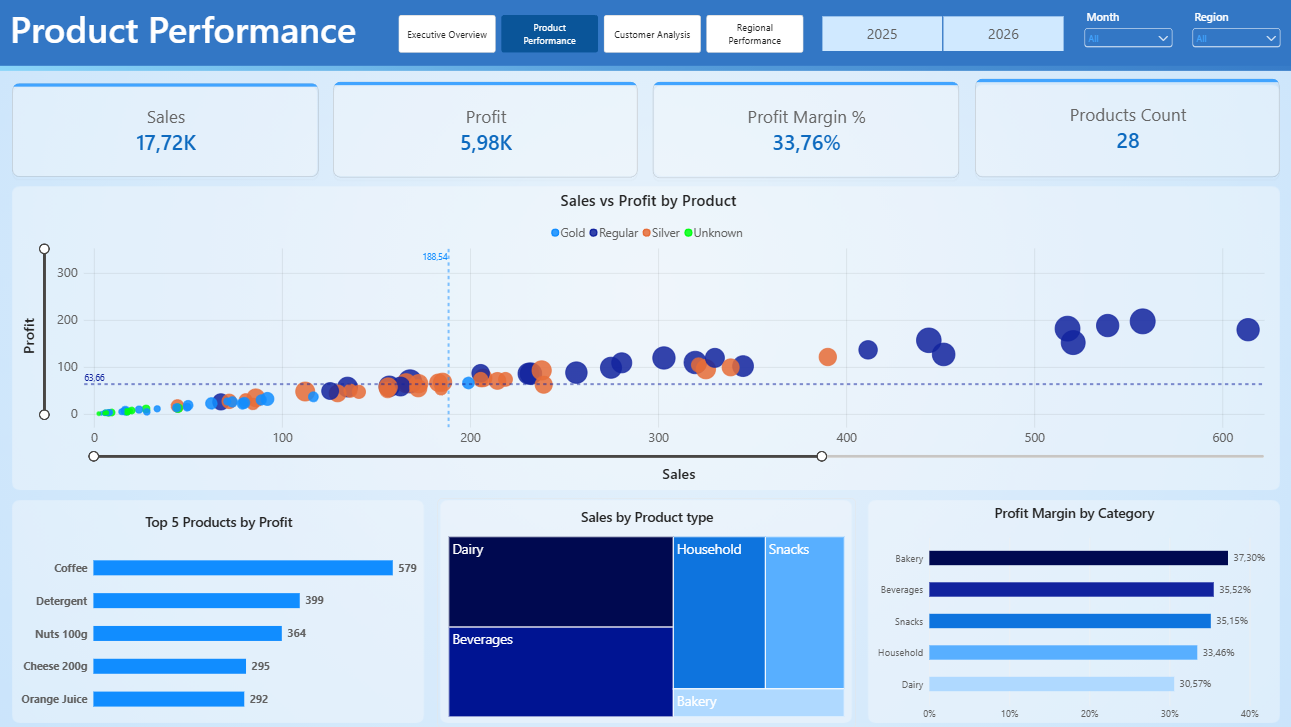

What the dashboard file says about the page in this screenshot:
{"tool":"powerbi","page":{"name":"Product Performance","canvas":[1920,1080],"ordinal":1},"visuals":[{"type":"cardVisual","fields":{"Data":["_Measures.Sales"]},"box":[15,117.5,465,150],"z":0},{"type":"cardVisual","fields":{"Data":["_Measures.Profit Margin %"]},"box":[965,115,465,154.2],"z":1000},{"type":"cardVisual","fields":{"Data":["_Measures.Profit"]},"box":[490,115,462.5,153.3],"z":2000},{"type":"cardVisual","fields":{"Data":["_Measures.Products Count"]},"box":[1442.5,110,462.5,157.5],"z":3000},{"type":"slicer","fields":{"Values":["DimDate.MonthName"]},"box":[1605,12.5,140,75],"z":4000},{"type":"slicer","fields":{"Values":["DimRegion.Region"]},"box":[1765,12.5,140,72.5],"z":5000},{"type":"slicer","fields":{"Values":["DimDate.Year"]},"box":[1200,22.5,397.5,55],"z":6000},{"type":"textbox","box":[17.5,7.5,522.5,82.5],"z":7000},{"type":"clusteredBarChart","title":"Top 5 Products by Profit","fields":{"Category":["Products.ProductName"],"Y":["_Measures.Profit"]},"box":[32.5,760,587.5,308.3],"z":8000},{"type":"scatterChart","title":"Sales vs Profit by Product","fields":{"Category":["Products.ProductName"],"Series":["Customers.Segment"],"Size":["Sum(SalesLines.Quantity)"],"X":["_Measures.Sales"],"Y":["_Measures.Profit"]},"box":[20,267.5,1887.5,457.5],"z":9000},{"type":"treemap","title":"Sales by Product type","fields":{"Group":["ProductTypes.ProductType"],"Values":["_Measures.Sales"]},"box":[650,738.3,620,341.7],"z":10000},{"type":"clusteredBarChart","title":"Profit Margin by Category","fields":{"Category":["ProductTypes.ProductType"],"Y":["_Measures.Profit Margin %"]},"box":[1297.5,747.5,593.3,325],"z":11000},{"type":"pageNavigator","box":[592.9,22,602.6,56.1],"z":11001}]}

Visuals, with their boxes in screenshot pixels (x1, y1, x2, y2), scaled from the page's 1920x1080 canvas onto the 1291x727 screenshot:
cardVisual - _Measures.Sales: detection(10, 79, 323, 180)
cardVisual - _Measures.Profit Margin %: detection(649, 77, 962, 181)
cardVisual - _Measures.Profit: detection(329, 77, 640, 181)
cardVisual - _Measures.Products Count: detection(970, 74, 1281, 180)
slicer - DimDate.MonthName: detection(1079, 8, 1173, 59)
slicer - DimRegion.Region: detection(1187, 8, 1281, 57)
slicer - DimDate.Year: detection(807, 15, 1074, 52)
textbox: detection(12, 5, 363, 61)
"Top 5 Products by Profit" clusteredBarChart: detection(22, 512, 417, 719)
"Sales vs Profit by Product" scatterChart: detection(13, 180, 1283, 488)
"Sales by Product type" treemap: detection(437, 497, 854, 726)
"Profit Margin by Category" clusteredBarChart: detection(872, 503, 1271, 722)
pageNavigator: detection(399, 15, 804, 53)
